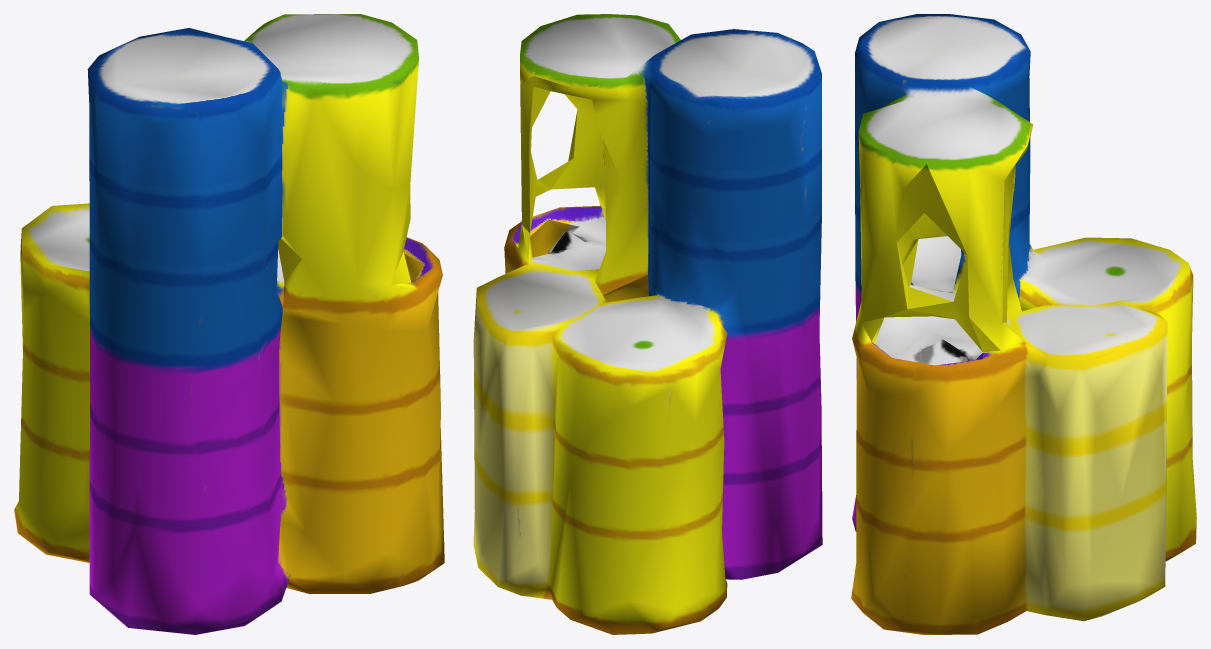
The model's file is paintball-barrel-stack.glb.
The picture shows the model from 3 angles, left to right: view 1: azimuth 30°, elevation 25°; view 2: azimuth 150°, elevation 25°; view 3: azimuth 270°, elevation 25°; orthographic projection. The views are drawn at different scales.
Parts seen in each view (by area): view 1: geometry_0.001; view 2: geometry_0.001; view 3: geometry_0.001.
Boxes of the visible parts, box(x1,y1,x2,y2) form: geometry_0.001: box(14, 14, 444, 634); geometry_0.001: box(473, 14, 822, 634); geometry_0.001: box(851, 14, 1196, 634).
Size of the model in its own units: 0.6467 by 0.9994 by 0.6433.
1 material, 1 textured.
